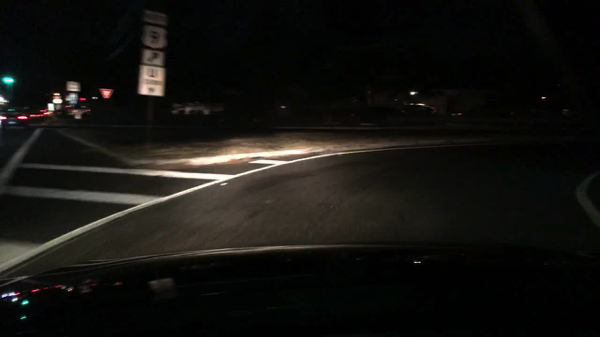car: (0, 109, 29, 133), (392, 103, 438, 116), (54, 104, 91, 119), (26, 109, 45, 122), (449, 111, 469, 117), (44, 110, 52, 119)
traffic light: (4, 77, 15, 86)
traffic sign: (138, 62, 167, 97), (140, 25, 169, 48), (140, 9, 170, 28), (140, 49, 165, 65), (99, 87, 114, 99), (66, 81, 79, 91)
